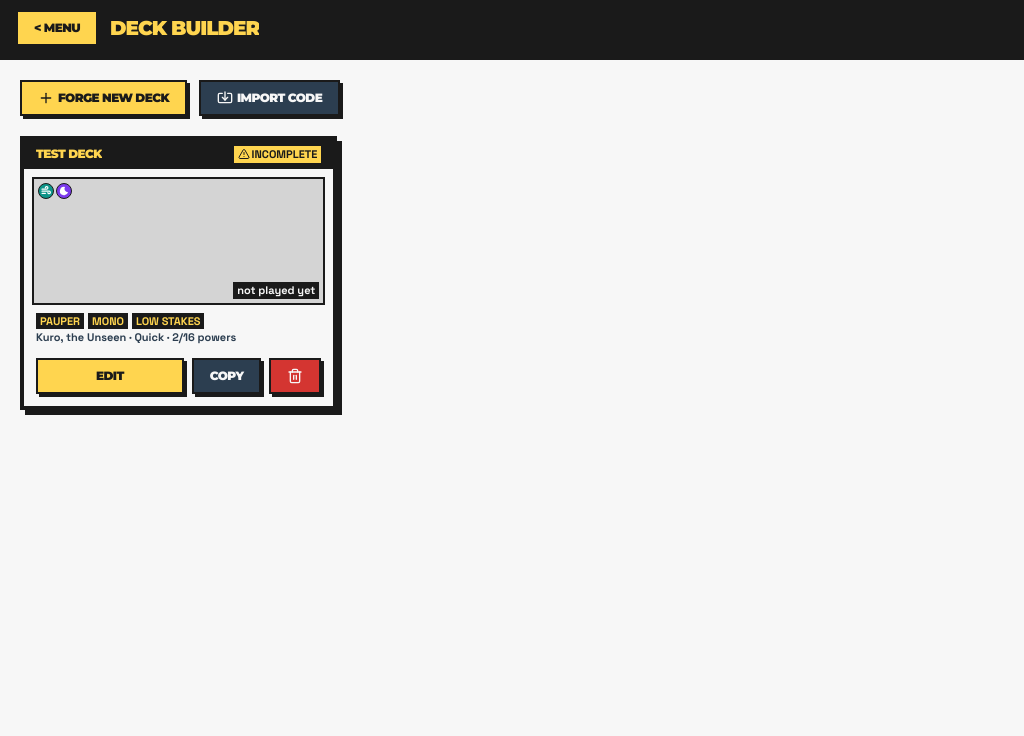
Test: deck editor › a power cannot be added past the format copy limit
Click the button "EDIT" at (110, 376), box top-left (36, 358), bottom-right (184, 394)
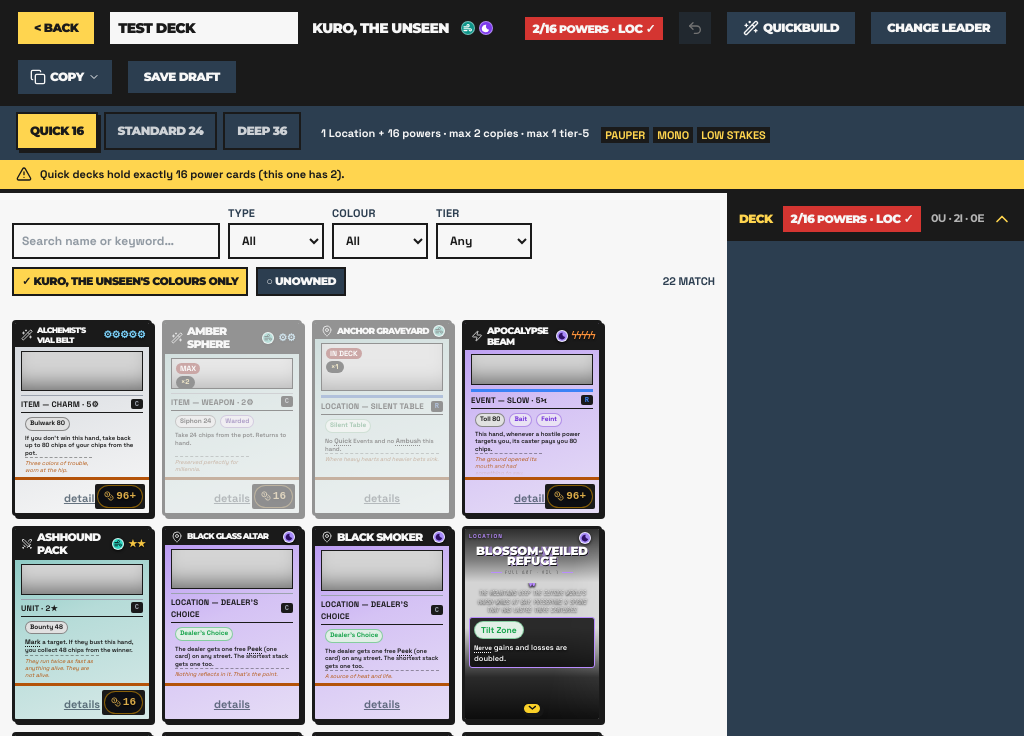
Click the button with aria-label "Amber Sphere, Item — Weapon · 2⚙, tier 2" at (232, 418), box top-left (162, 320), bottom-right (302, 516)
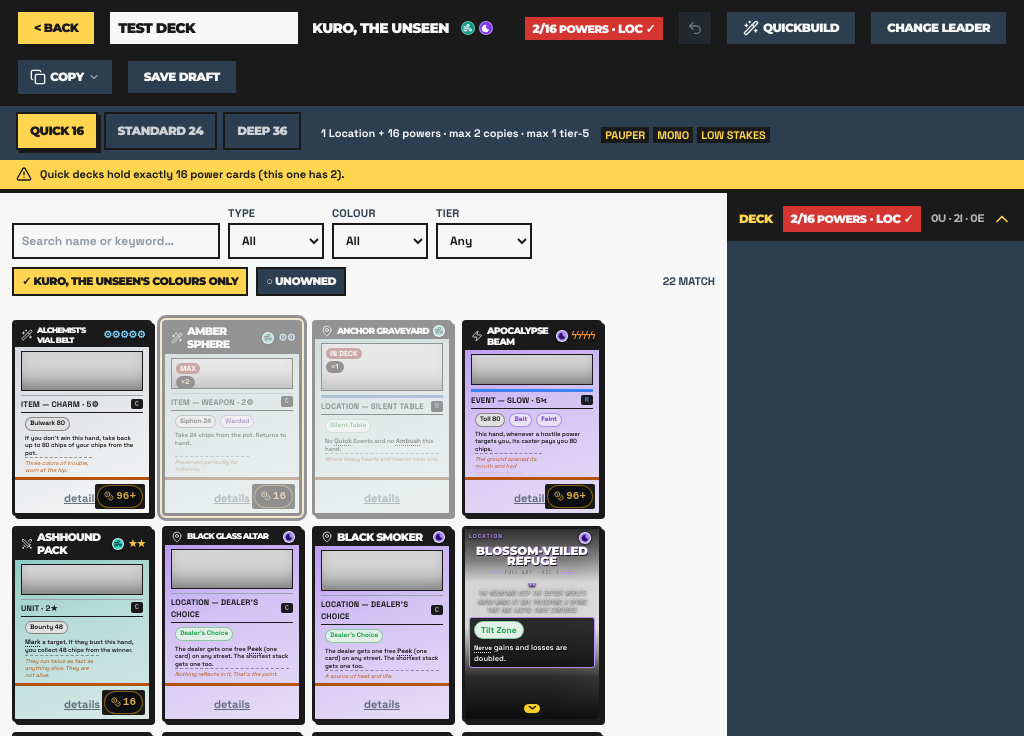
Click the button "DECK 2/16 POWERS · LOC ✓ 0U · 2I · 0E" at (876, 218), box top-left (727, 196), bottom-right (1023, 240)
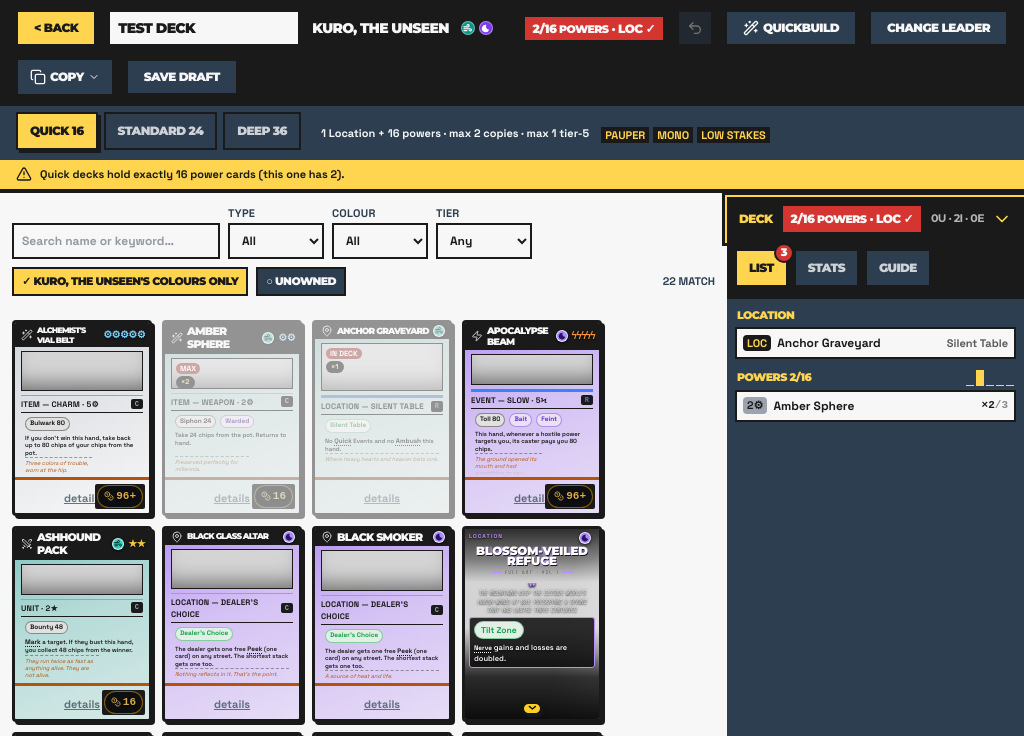
Check: the text "×2" is shown, box top-left (982, 397), bottom-right (1008, 414)
